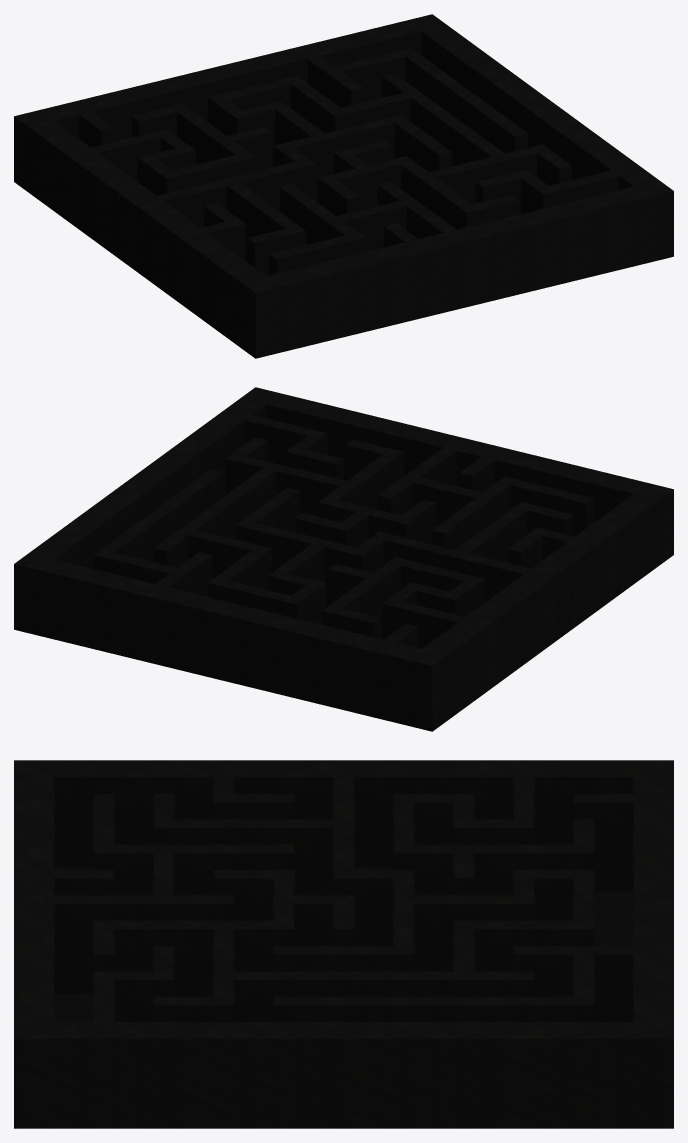
The model's file is labirinto.fbx.
3 views of the same model, one above another, from view 1: azimuth 30°, elevation 25°; view 2: azimuth 150°, elevation 25°; view 3: azimuth 270°, elevation 25° (orthographic). The views are drawn at different scales.
Visible parts, largest first — view 1: Plane; view 2: Plane; view 3: Plane.
Part boxes in pixels (box(x1,y1,x2,y2)): Plane: box(14, 14, 673, 358); Plane: box(14, 387, 673, 731); Plane: box(14, 760, 673, 1128).
Size of the model in its own units: 3991 by 599 by 3991.
1 material, 1 textured.
